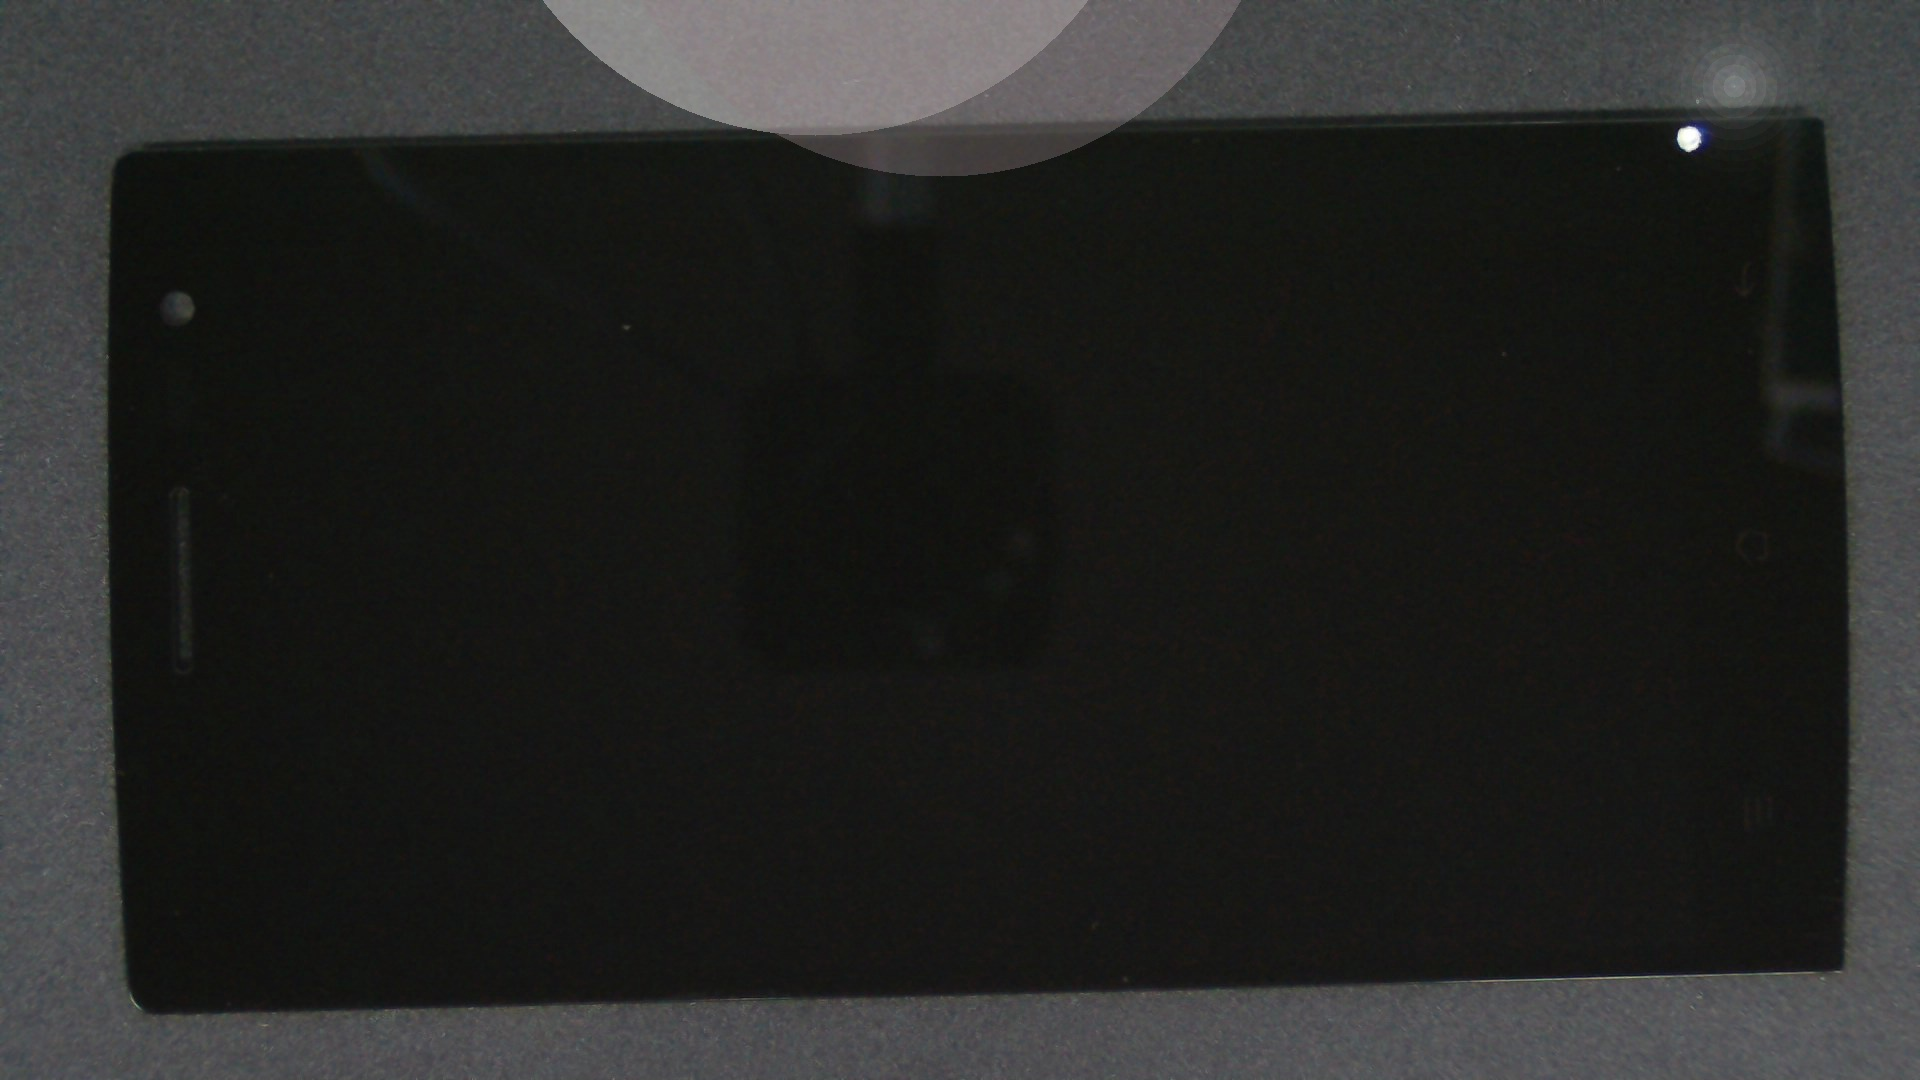oil: (844, 62, 1920, 186)
